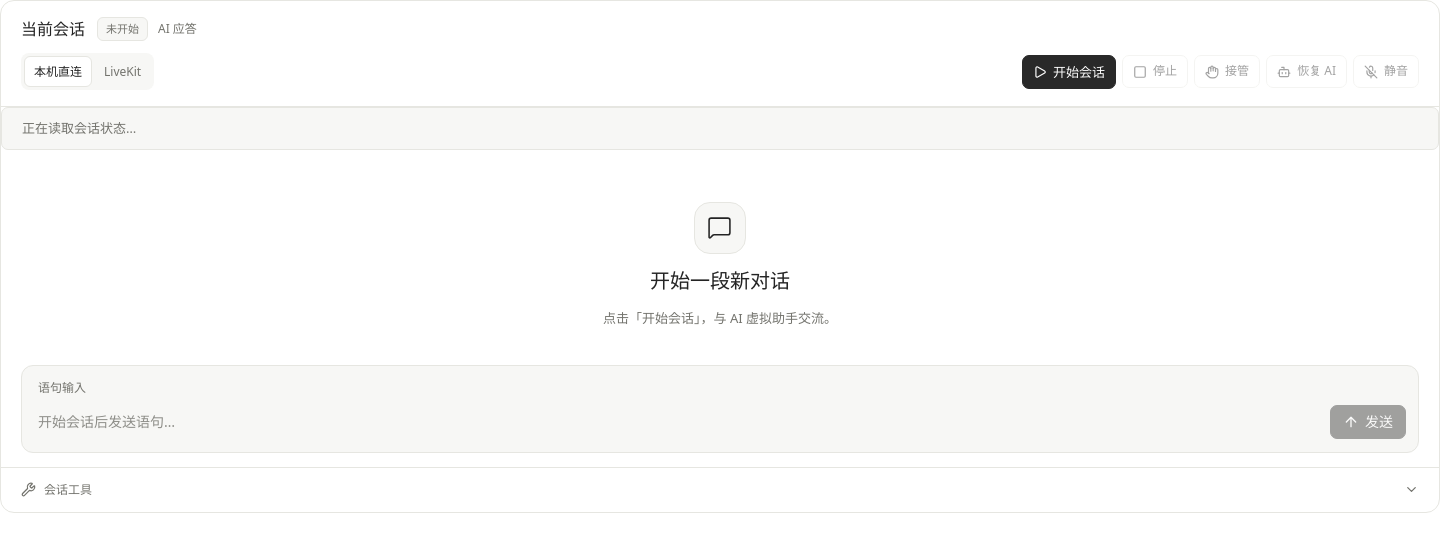
it: WorkspaceSession › shows 本轮未使用资料 after finalize when materials_used is false
Click the button "开始会话" at (1069, 72), box [1022,54,1116,89]
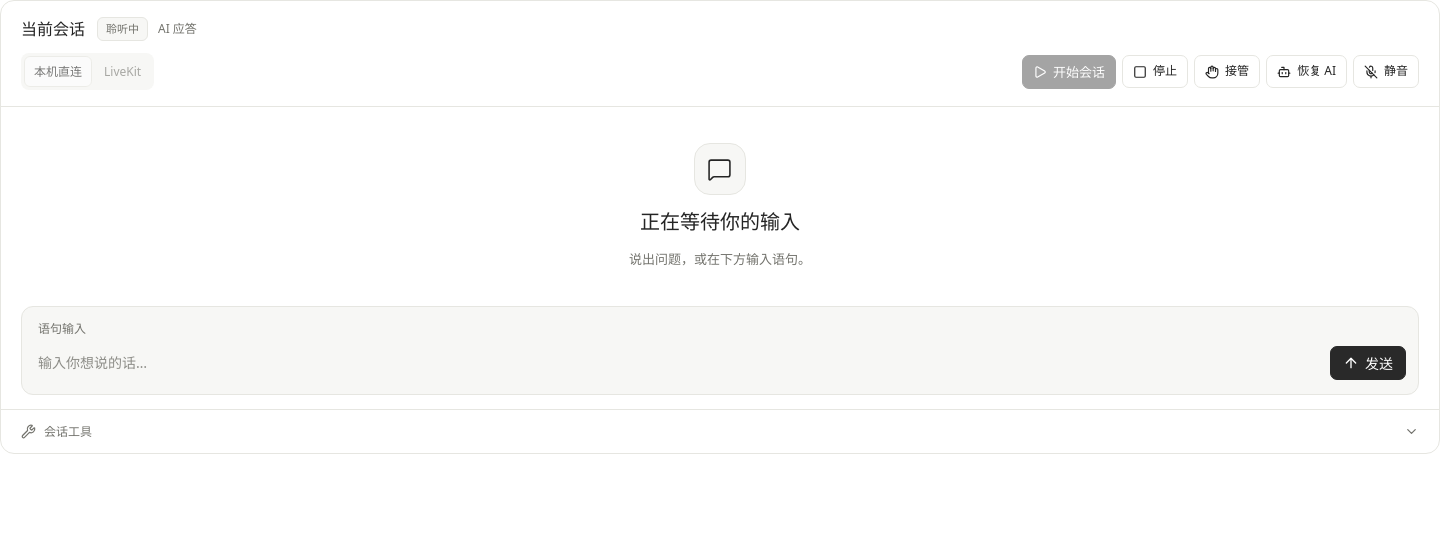
Now the text "聆听中" is shown, box [97,17,148,41]
Type "你好" into the field labelled "语句输入" at (677, 363), box [34,345,1320,382]
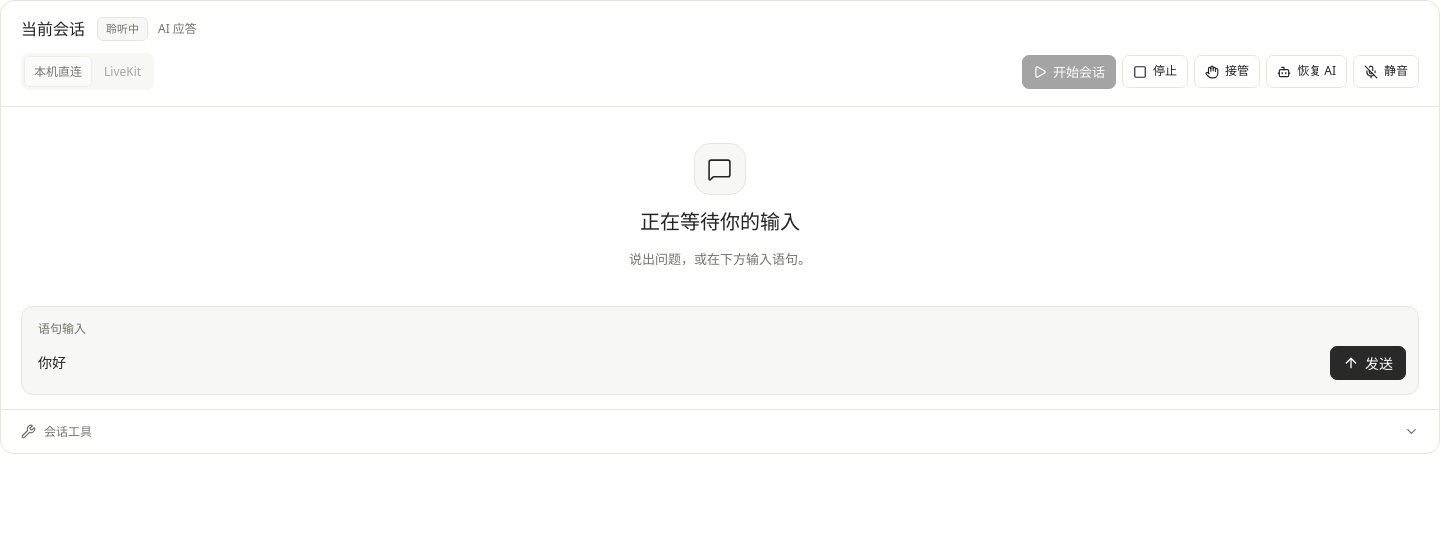
Click the button "发送" at (1368, 363), box [1330,346,1406,380]
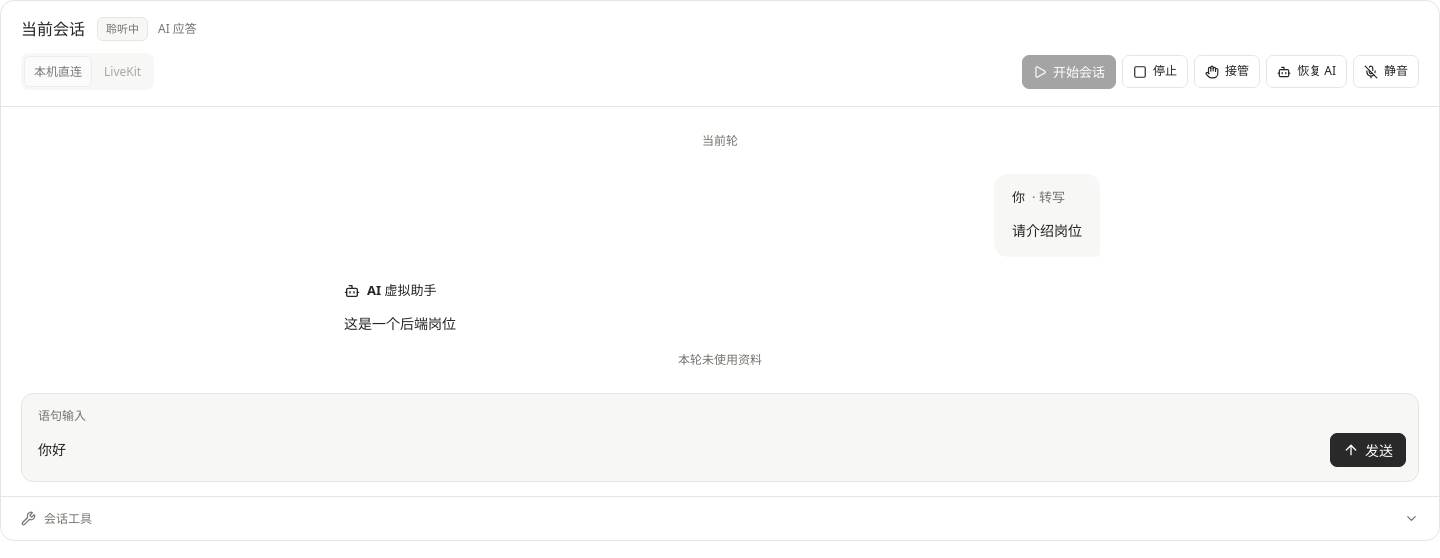
Now the text "本轮未使用资料" is shown, box [678,351,762,368]
